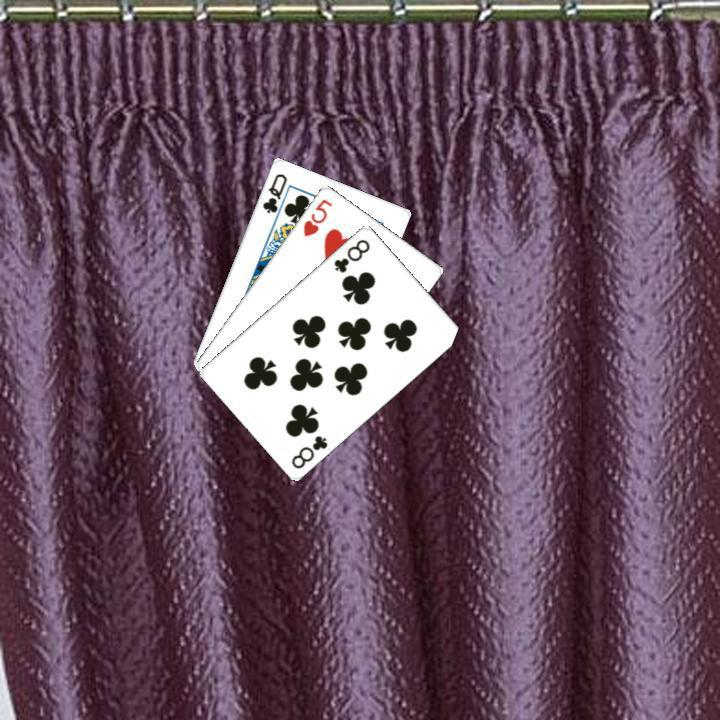5: (299, 194, 334, 238)
8: (329, 234, 372, 275), (287, 430, 330, 470)
Q: (258, 169, 289, 215)
